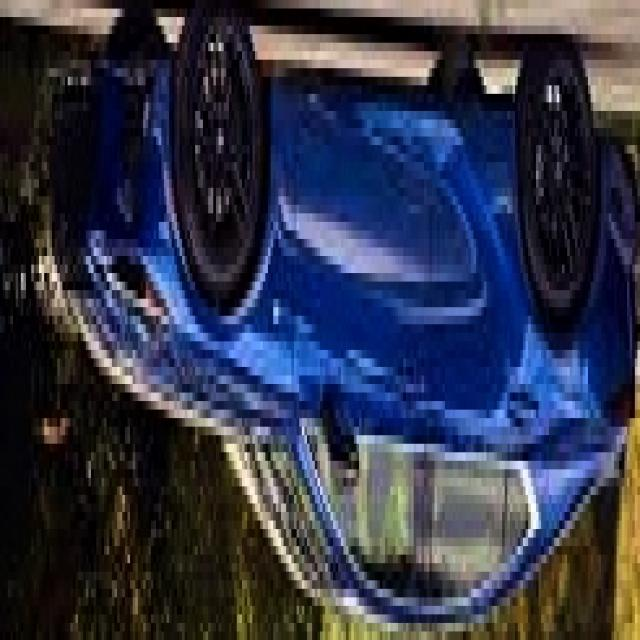blue: (45, 20, 640, 623)
